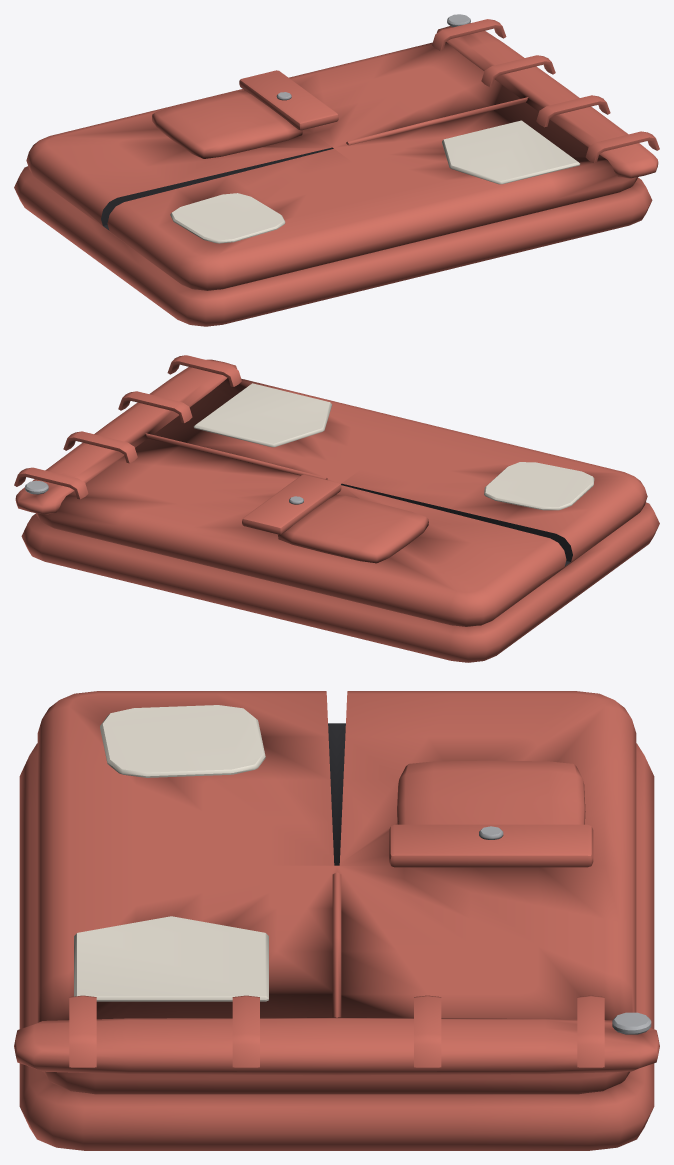
File: wear_pants.glb
3 views of the same model, one above another, from view 1: azimuth 30°, elevation 25°; view 2: azimuth 150°, elevation 25°; view 3: azimuth 270°, elevation 25° (orthographic). The views are drawn at different scales.
Parts seen in each view (by area): view 1: PART; view 2: PART; view 3: PART.
Boxes of the visible parts, x1,y1,x2,y2 form: PART: (14,14,659,326); PART: (14,355,659,662); PART: (14,691,659,1150).
Size of the model in its own units: 0.4079 by 0.068 by 0.2849.
